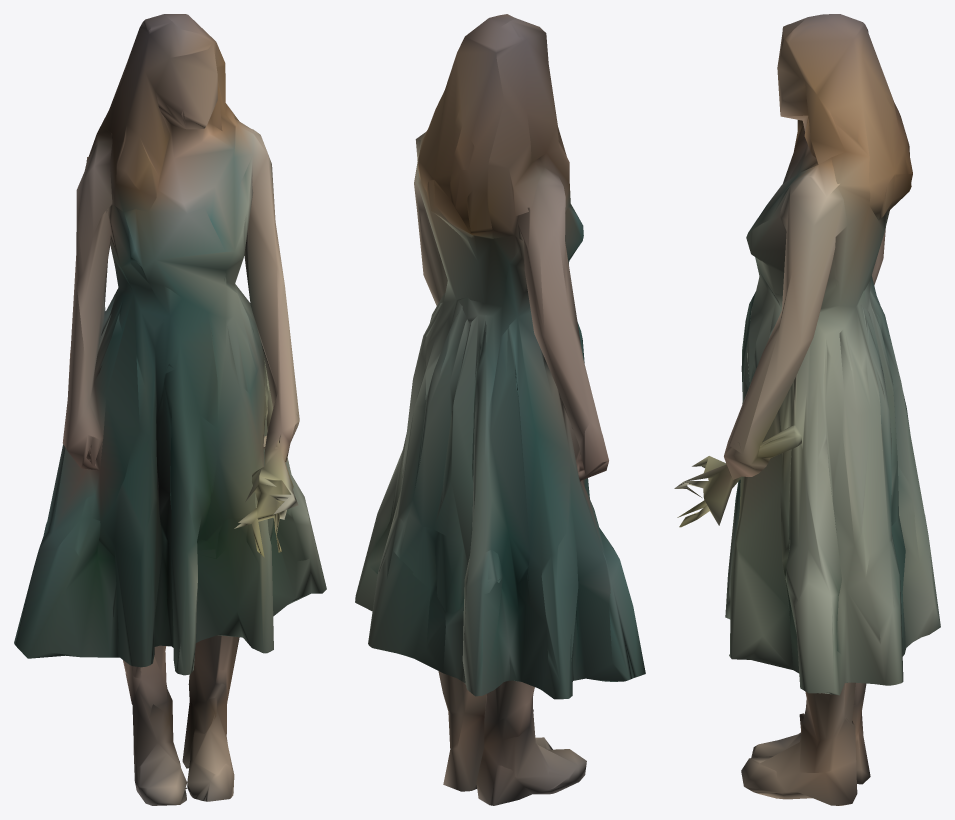
Rendered from femme-1.glb.
3 renders of one model, left to right at view 1: azimuth 30°, elevation 25°; view 2: azimuth 150°, elevation 25°; view 3: azimuth 270°, elevation 25°, orthographic.
Parts seen in each view (by area): view 1: spectateur; view 2: spectateur; view 3: spectateur.
Part boxes in pixels (x1,y1,x2,y2): spectateur: (14,14,326,805); spectateur: (355,14,645,805); spectateur: (674,14,940,805).
Bounding box in the file's own units: 0.6628 × 1.66 × 0.5238.
